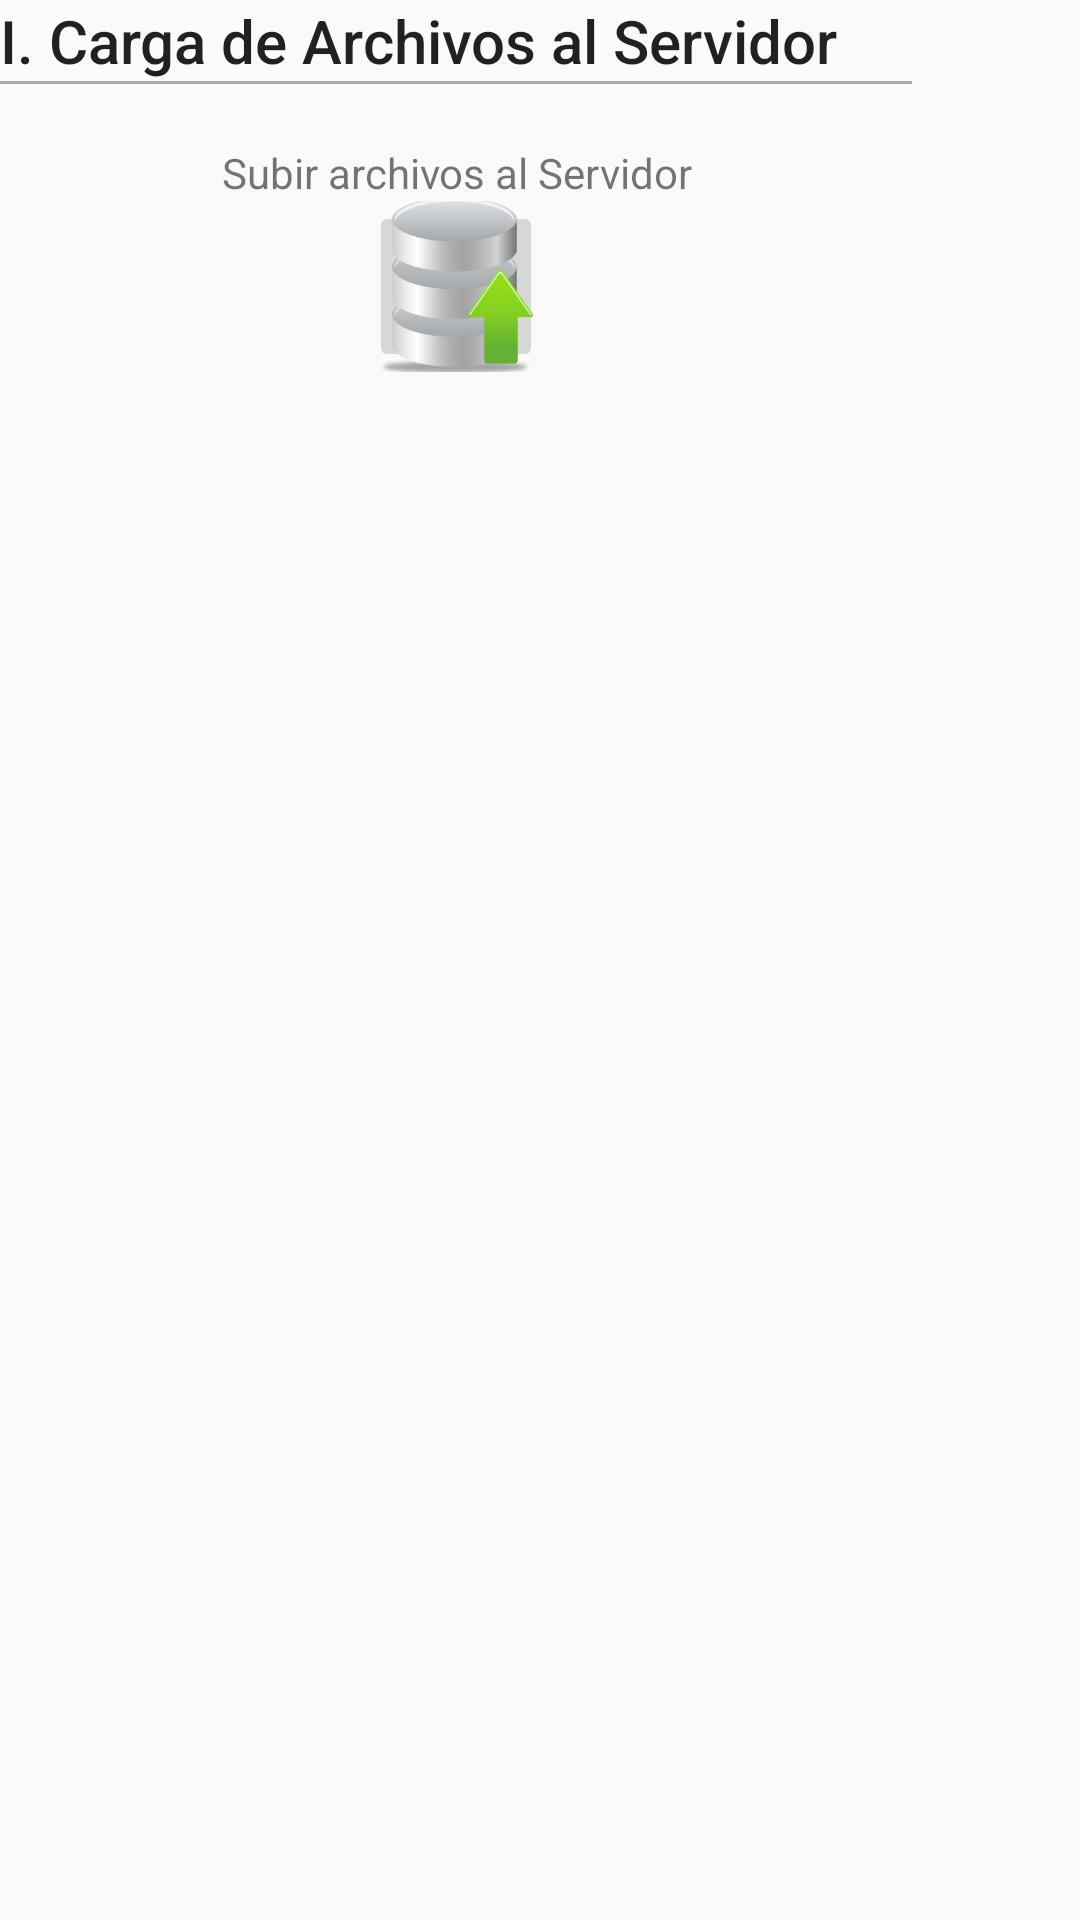

Icon bounding boxes for this 1080px x 1920px phone screenshot, format bbox(x1, y1, x2, y2):
upload: bbox(381, 201, 533, 372)
